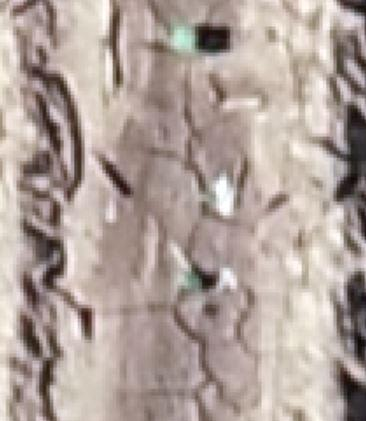cotton: (170, 27, 194, 52)
